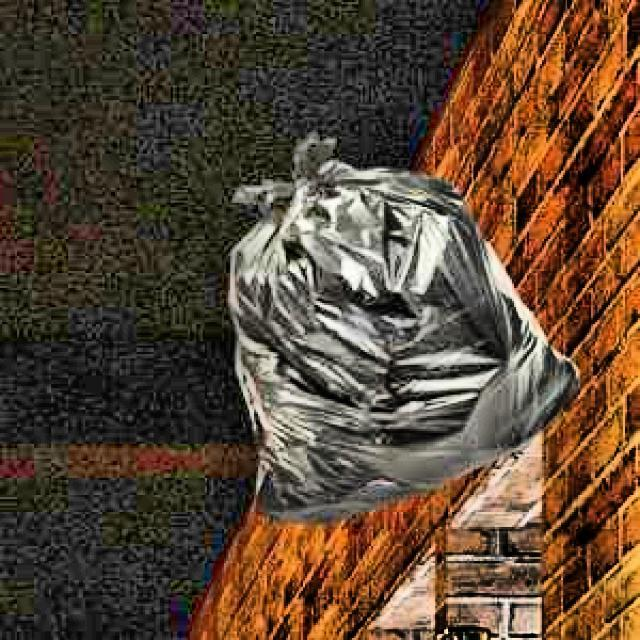Trashbag: (202, 138, 584, 529)
